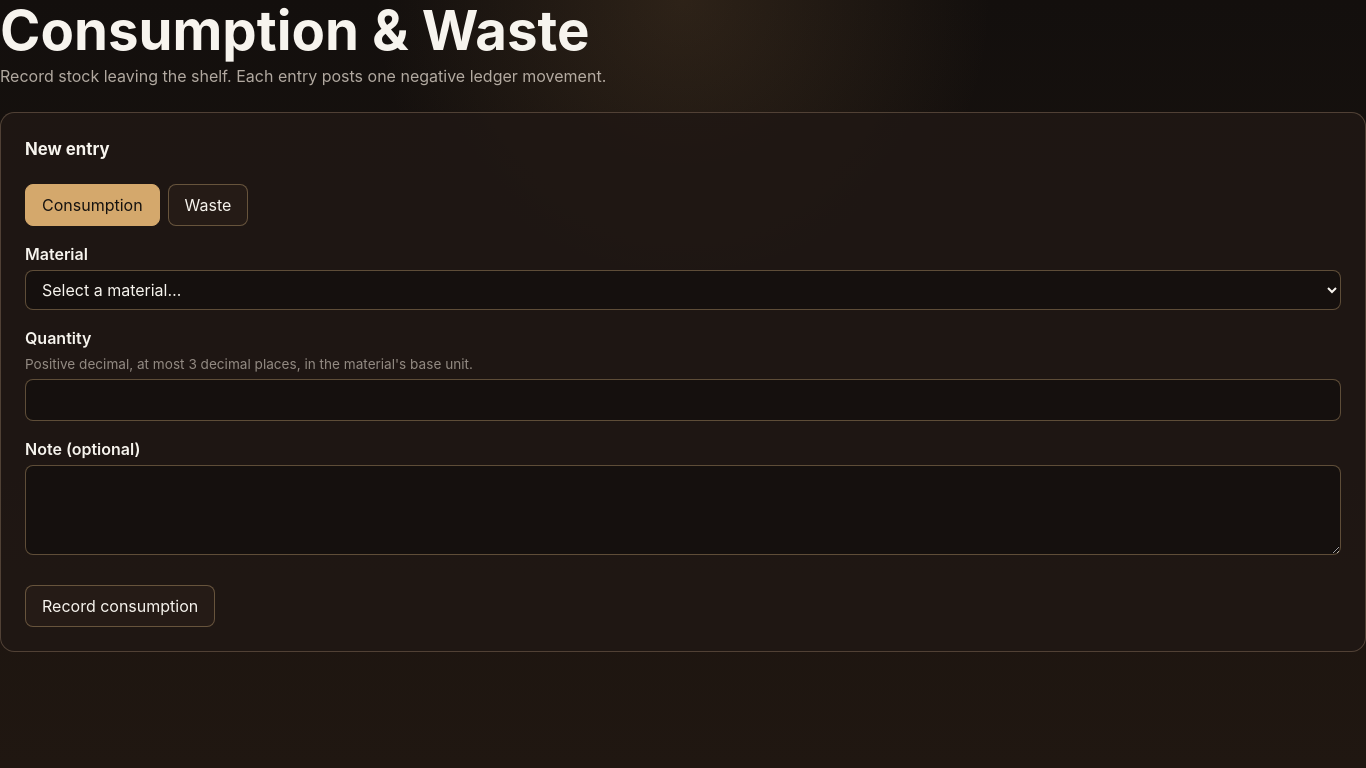
ConsumptionPage › records a consumption and reports the movement
Select "Espresso beans (g)" in the dropdown labelled "Material". click: (683, 290)
box: [25,270,1341,310]
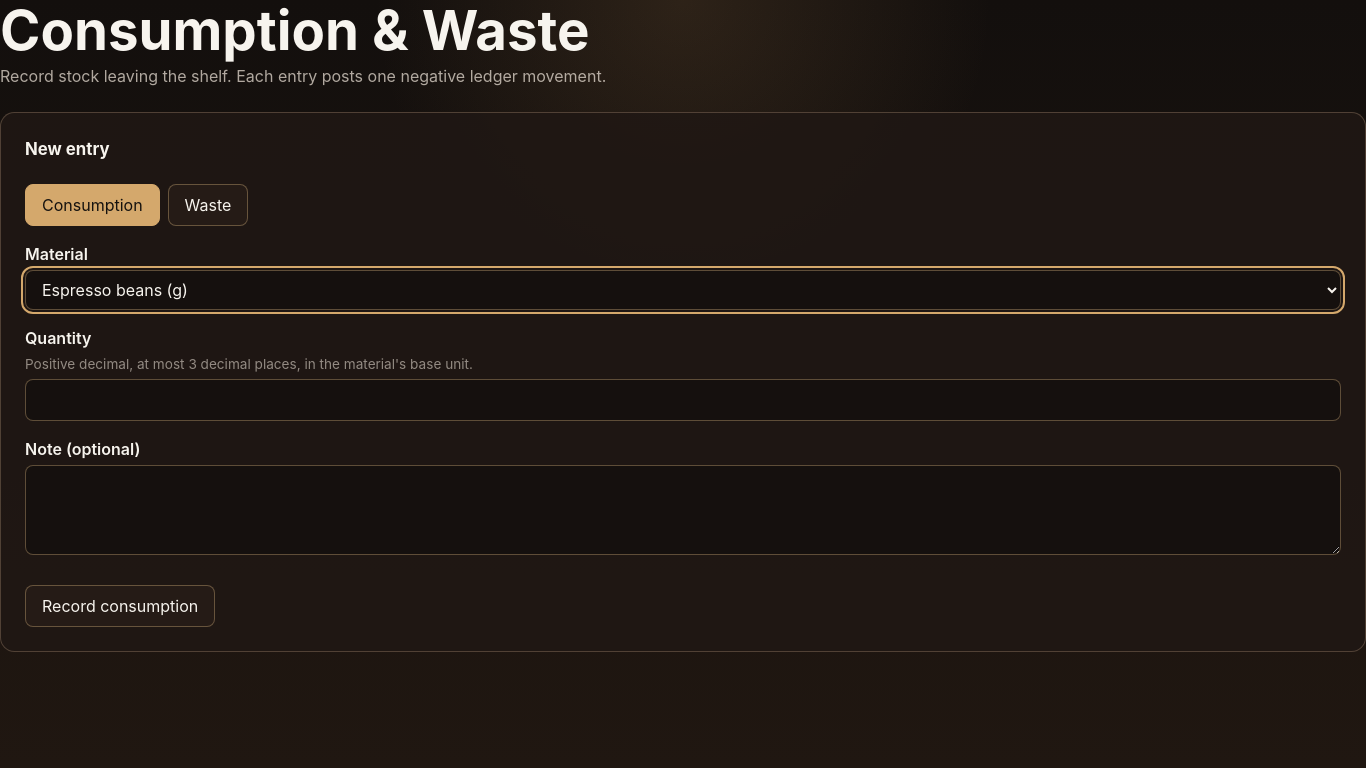
Type "2.500" into the field labelled "Quantity". click: (683, 400)
box: [25,379,1341,421]
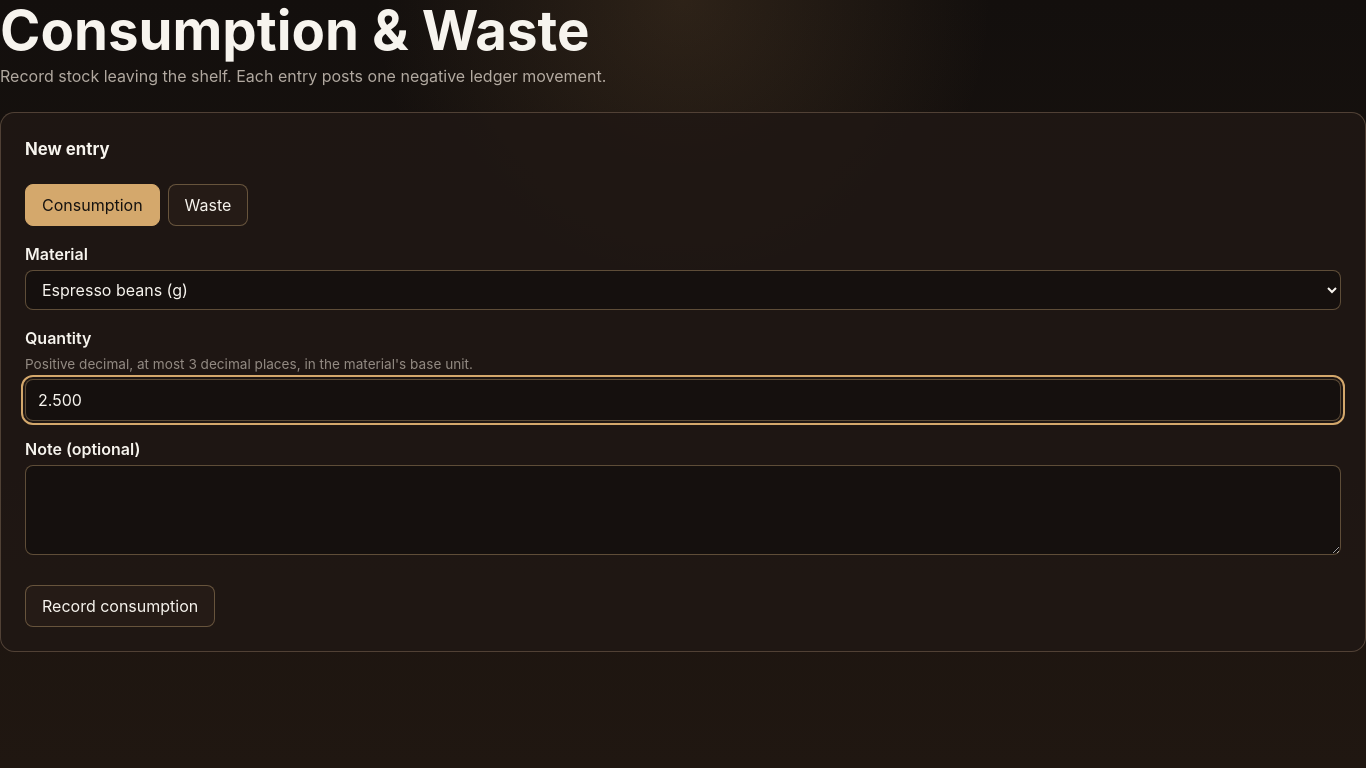
Click the button "Record consumption". click: (120, 606)
box: [25,585,215,627]
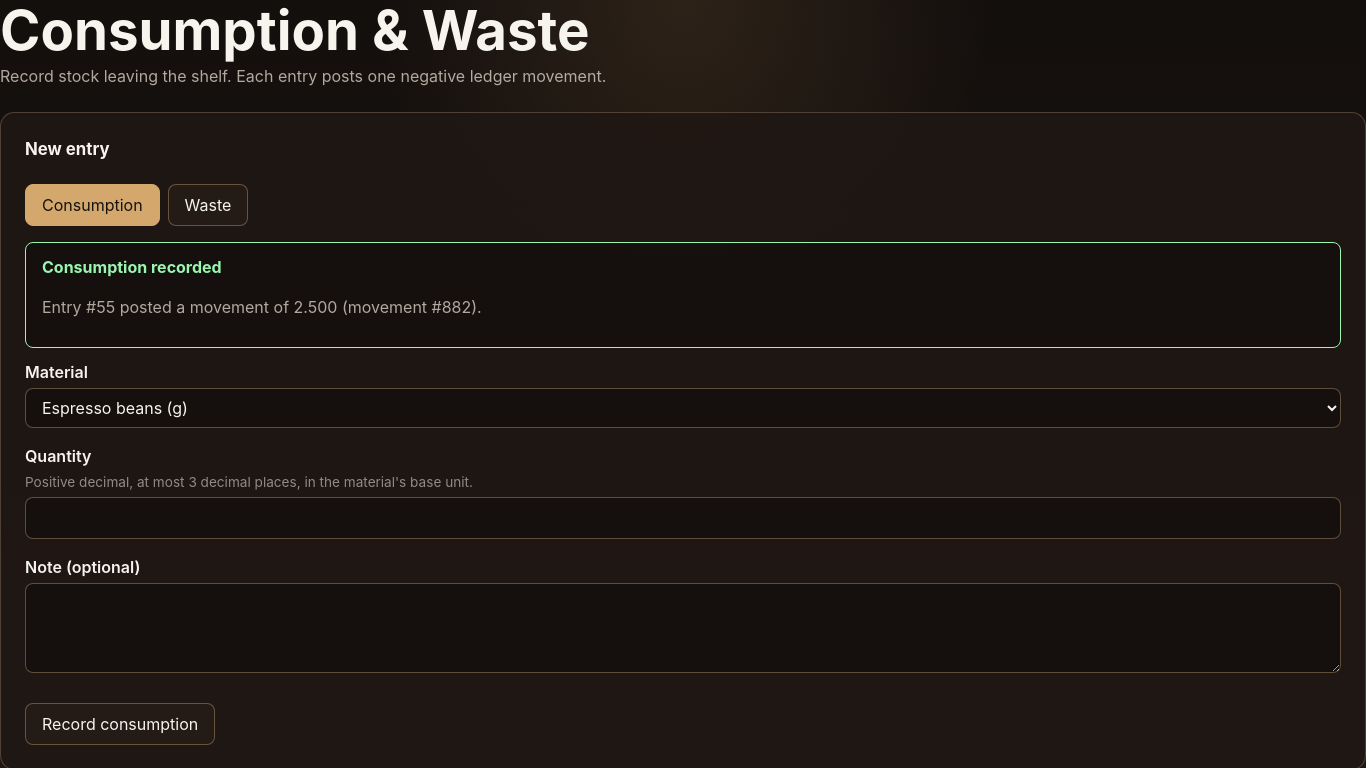
Expected: the text "Consumption recorded" is shown, [42,257,222,277]
Expected: the text "Entry #55 posted a movement of 2.500 (movement #882)." is shown, [42,297,482,317]
